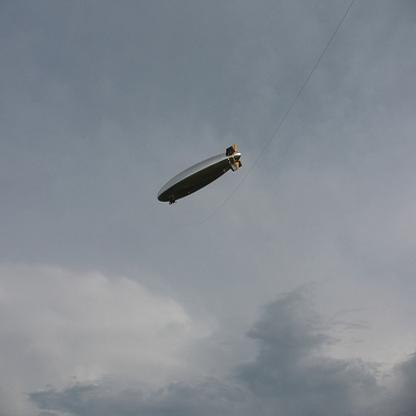Airship: (150, 140, 246, 216)
